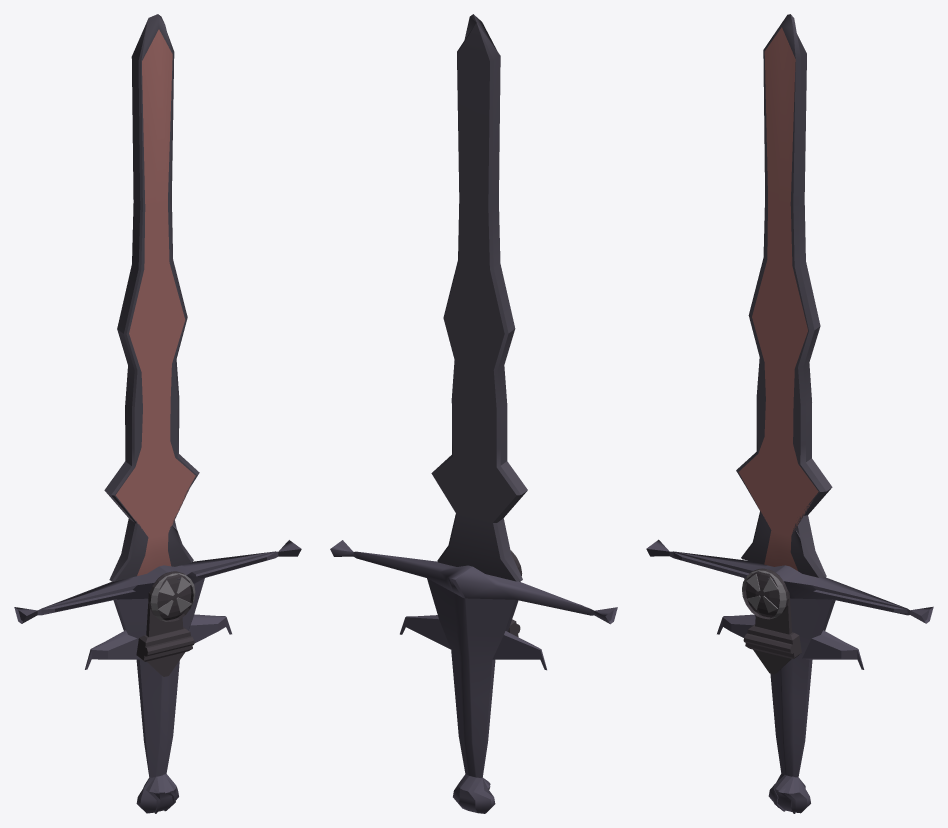
The model's file is espada1.fbx.
3 renders of one model, left to right at view 1: azimuth 30°, elevation 25°; view 2: azimuth 150°, elevation 25°; view 3: azimuth 330°, elevation 25°, orthographic.
Parts seen in each view (by area): view 1: pSphere2; view 2: pSphere2; view 3: pSphere2.
Part boxes in pixels (left/top/right/bottom): pSphere2: left=14, top=14, right=301, bottom=813; pSphere2: left=330, top=14, right=617, bottom=813; pSphere2: left=646, top=14, right=933, bottom=813.
Size of the model in its own units: 0.1577 by 0.4351 by 0.0438.
